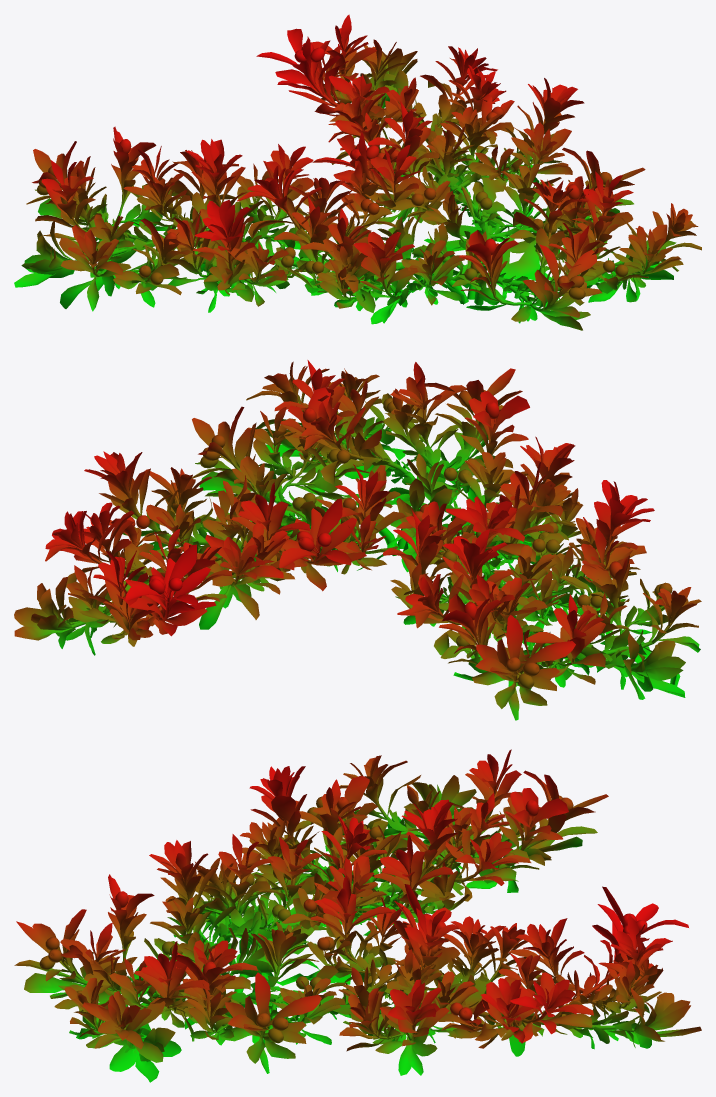
The model's file is Alpine Bearberry_LOD1_Var1_xb0gdazqx.fbx.
3 views of the same model, one above another, from view 1: azimuth 30°, elevation 25°; view 2: azimuth 150°, elevation 25°; view 3: azimuth 270°, elevation 25° (orthographic). The views are drawn at different scales.
Parts seen in each view (by area): view 1: _rk6p_Var1_LOD1; view 2: _rk6p_Var1_LOD1; view 3: _rk6p_Var1_LOD1.
Boxes of the visible parts, left/top/right/bottom form: _rk6p_Var1_LOD1: left=14, top=14, right=701, bottom=330; _rk6p_Var1_LOD1: left=14, top=360, right=701, bottom=720; _rk6p_Var1_LOD1: left=14, top=749, right=701, bottom=1082.
Bounding box in the file's own units: 73.01 × 17.2 × 74.29.
